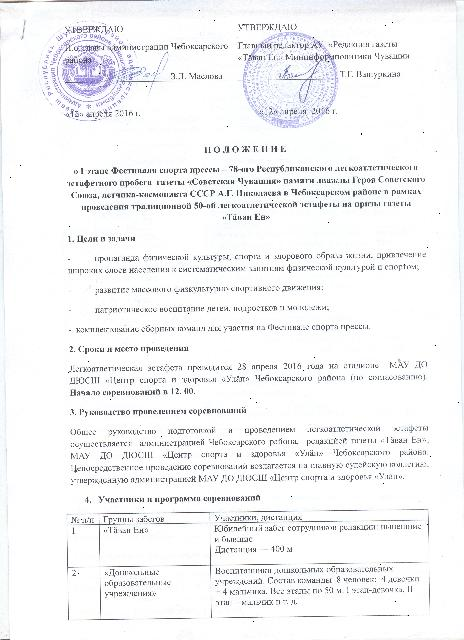stamp: (246, 33, 338, 129), (42, 26, 134, 120)
